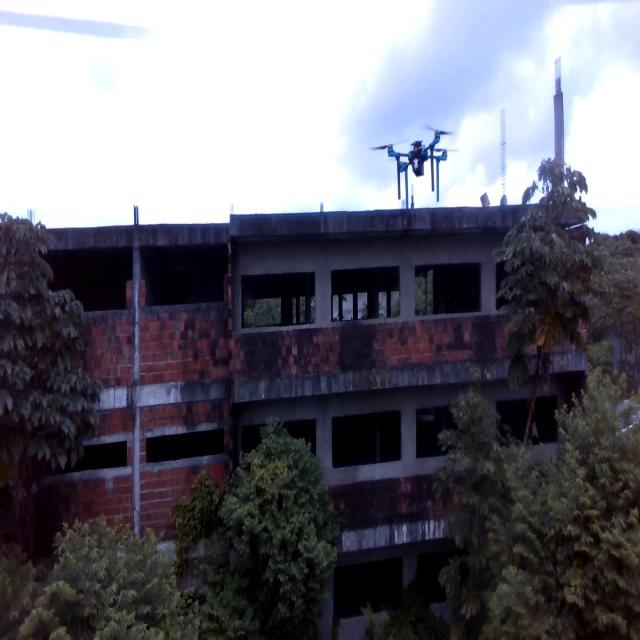-uav-: (364, 108, 478, 242)
